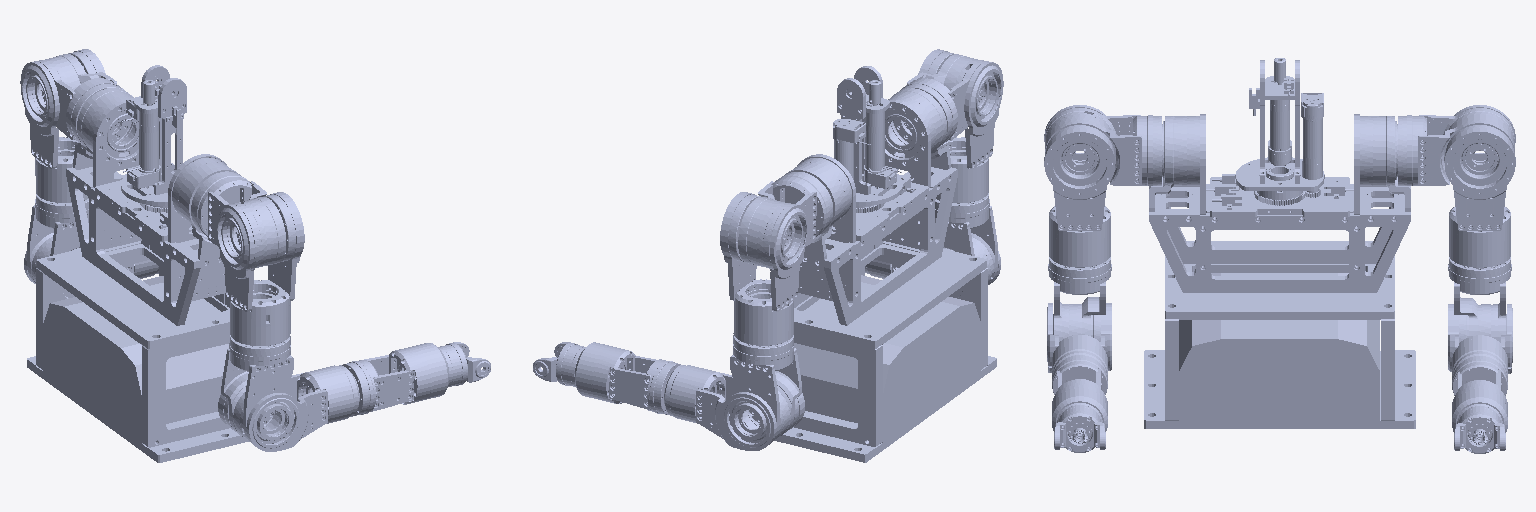
robot.urdf — TOMO:
<?xml version="1.0" encoding="utf-8"?>
<!-- This URDF was automatically created by SolidWorks to URDF Exporter! Originally created by [author] ([email redacted]) 
     Commit Version: 1.5.1-0-g916b5db  Build Version: 1.5.7152.31018
     For more information, please see http://wiki.ros.org/sw_urdf_exporter -->
<robot
  name="TOMO">
  <link
    name="base_link">
    <inertial>
      <origin
        xyz="4.93810241130204E-07 -0.000386316285931254 0.0968888666070041"
        rpy="0 0 0" />
      <mass
        value="8.83132447725134" />
      <inertia
        ixx="0.0575793448618033"
        ixy="-4.3156287973849E-08"
        ixz="1.01002746070377E-09"
        iyy="0.0423254144963157"
        iyz="-1.93199740717433E-09"
        izz="0.0808458288984447" />
    </inertial>
    <visual>
      <origin
        xyz="0 0 0"
        rpy="0 0 0" />
      <geometry>
        <mesh
          filename="package://TOMO/meshes/base_link.STL" />
      </geometry>
      <material
        name="">
        <color
          rgba="0.792156862745098 0.819607843137255 0.933333333333333 1" />
      </material>
    </visual>
    <collision>
      <origin
        xyz="0 0 0"
        rpy="0 0 0" />
      <geometry>
        <mesh
          filename="package://TOMO/meshes/base_link.STL" />
      </geometry>
    </collision>
  </link>
  <link
    name="link_1_right">
    <inertial>
      <origin
        xyz="-0.000116770951663181 0.00486515507498929 0.0746954589647087"
        rpy="0 0 0" />
      <mass
        value="0.227010110091438" />
      <inertia
        ixx="0.000243708178478457"
        ixy="-1.66021010705533E-07"
        ixz="5.95851806907483E-08"
        iyy="0.0003426243365169"
        iyz="-1.97302100623573E-05"
        izz="0.000198647270051706" />
    </inertial>
    <visual>
      <origin
        xyz="0 0 0"
        rpy="0 0 0" />
      <geometry>
        <mesh
          filename="package://TOMO/meshes/link_1_right.STL" />
      </geometry>
      <material
        name="">
        <color
          rgba="0.792156862745098 0.819607843137255 0.933333333333333 1" />
      </material>
    </visual>
    <collision>
      <origin
        xyz="0 0 0"
        rpy="0 0 0" />
      <geometry>
        <mesh
          filename="package://TOMO/meshes/link_1_right.STL" />
      </geometry>
    </collision>
  </link>
  <joint
    name="joint_1_right"
    type="revolute">
    <origin
      xyz="0 -0.149653699999999 0.346"
      rpy="1.5707963267949 -1.5707963267949 0" />
    <parent
      link="base_link" />
    <child
      link="link_1_right" />
    <axis
      xyz="0 0 -1" />
    <limit
      lower="-4"
      upper="4"
      effort="1"
      velocity="2" />
  </joint>
  <link
    name="link_2_right">
    <inertial>
      <origin
        xyz="0.0844457878809687 0.000101989286195203 -0.000711500079616463"
        rpy="0 0 0" />
      <mass
        value="0.224067099854849" />
      <inertia
        ixx="0.000204476910991099"
        ixy="-1.32452259272611E-07"
        ixz="-1.68210249018226E-06"
        iyy="0.000228971086287487"
        iyz="2.27423206555866E-07"
        izz="0.000287593417326689" />
    </inertial>
    <visual>
      <origin
        xyz="0 0 0"
        rpy="0 0 0" />
      <geometry>
        <mesh
          filename="package://TOMO/meshes/link_2_right.STL" />
      </geometry>
      <material
        name="">
        <color
          rgba="0.792156862745098 0.819607843137255 0.933333333333333 1" />
      </material>
    </visual>
    <collision>
      <origin
        xyz="0 0 0"
        rpy="0 0 0" />
      <geometry>
        <mesh
          filename="package://TOMO/meshes/link_2_right.STL" />
      </geometry>
    </collision>
  </link>
  <joint
    name="joint_2_right"
    type="revolute">
    <origin
      xyz="0 0 0.1083463"
      rpy="-1.5707963267949 0 -3.14159265358979" />
    <parent
      link="link_1_right" />
    <child
      link="link_2_right" />
    <axis
      xyz="0 0 -1" />
    <limit
      lower="-4"
      upper="4"
      effort="1"
      velocity="2" />
  </joint>
  <link
    name="link_3_right">
    <inertial>
      <origin
        xyz="-0.00454794287596466 -0.00163065568804118 0.229261609294948"
        rpy="0 0 0" />
      <mass
        value="0.213526726526992" />
      <inertia
        ixx="0.000295392285895187"
        ixy="2.55971824609778E-06"
        ixz="2.42012077099998E-05"
        iyy="0.000223789530418184"
        iyz="-7.92943480369413E-06"
        izz="0.000150527475277034" />
    </inertial>
    <visual>
      <origin
        xyz="0 0 0"
        rpy="0 0 0" />
      <geometry>
        <mesh
          filename="package://TOMO/meshes/link_3_right.STL" />
      </geometry>
      <material
        name="">
        <color
          rgba="0.792156862745098 0.819607843137255 0.933333333333333 1" />
      </material>
    </visual>
    <collision>
      <origin
        xyz="0 0 0"
        rpy="0 0 0" />
      <geometry>
        <mesh
          filename="package://TOMO/meshes/link_3_right.STL" />
      </geometry>
    </collision>
  </link>
  <joint
    name="joint_3_right"
    type="revolute">
    <origin
      xyz="0 0 0"
      rpy="1.5707963267949 0 1.5707963267949" />
    <parent
      link="link_2_right" />
    <child
      link="link_3_right" />
    <axis
      xyz="0 0 -1" />
    <limit
      lower="-4"
      upper="4"
      effort="1"
      velocity="2" />
  </joint>
  <link
    name="link_4_right">
    <inertial>
      <origin
        xyz="0.0706705020224996 -0.0019474253479012 -0.000388890377786499"
        rpy="0 0 0" />
      <mass
        value="0.157682494190408" />
      <inertia
        ixx="0.000121793428908691"
        ixy="2.300132575207E-06"
        ixz="1.68248584566472E-07"
        iyy="0.00012579488389509"
        iyz="3.33924248156573E-07"
        izz="0.000163908797308814" />
    </inertial>
    <visual>
      <origin
        xyz="0 0 0"
        rpy="0 0 0" />
      <geometry>
        <mesh
          filename="package://TOMO/meshes/link_4_right.STL" />
      </geometry>
      <material
        name="">
        <color
          rgba="0.792156862745098 0.819607843137255 0.933333333333333 1" />
      </material>
    </visual>
    <collision>
      <origin
        xyz="0 0 0"
        rpy="0 0 0" />
      <geometry>
        <mesh
          filename="package://TOMO/meshes/link_4_right.STL" />
      </geometry>
    </collision>
  </link>
  <joint
    name="joint_4_right"
    type="revolute">
    <origin
      xyz="0 0 0.261999881246334"
      rpy="-1.5707963267949 0 1.5707963267949" />
    <parent
      link="link_3_right" />
    <child
      link="link_4_right" />
    <axis
      xyz="0 0 1" />
    <limit
      lower="-4"
      upper="4"
      effort="1"
      velocity="2" />
  </joint>
  <link
    name="link_5_right">
    <inertial>
      <origin
        xyz="2.62862985959955E-06 -3.99825925093689E-05 0.231159620523696"
        rpy="0 0 0" />
      <mass
        value="0.177297059983289" />
      <inertia
        ixx="7.14269543821157E-05"
        ixy="-4.39097107681586E-07"
        ixz="3.91916444752041E-10"
        iyy="8.25865352501055E-05"
        iyz="-2.34279475662905E-09"
        izz="0.000123287285497174" />
    </inertial>
    <visual>
      <origin
        xyz="0 0 0"
        rpy="0 0 0" />
      <geometry>
        <mesh
          filename="package://TOMO/meshes/link_5_right.STL" />
      </geometry>
      <material
        name="">
        <color
          rgba="0.792156862745098 0.819607843137255 0.933333333333333 1" />
      </material>
    </visual>
    <collision>
      <origin
        xyz="0 0 0"
        rpy="0 0 0" />
      <geometry>
        <mesh
          filename="package://TOMO/meshes/link_5_right.STL" />
      </geometry>
    </collision>
  </link>
  <joint
    name="joint_5_right"
    type="revolute">
    <origin
      xyz="0 0 0"
      rpy="1.5707963267949 0 1.5707963267949" />
    <parent
      link="link_4_right" />
    <child
      link="link_5_right" />
    <axis
      xyz="0 0 -1" />
    <limit
      lower="-4"
      upper="4"
      effort="1"
      velocity="2" />
  </joint>
  <link
    name="hand_link">
    <inertial>
      <origin
        xyz="0.0174953909223021 -0.0683958688531121 0.00621333236576688"
        rpy="0 0 0" />
      <mass
        value="0.18641615441014" />
      <inertia
        ixx="7.23597280607215E-05"
        ixy="6.00403205960874E-06"
        ixz="-9.48627696336613E-07"
        iyy="4.50161547663777E-05"
        iyz="3.21609803728982E-06"
        izz="5.07318546078991E-05" />
    </inertial>
    <visual>
      <origin
        xyz="0 0 0"
        rpy="0 0 0" />
      <geometry>
        <mesh
          filename="package://TOMO/meshes/hand_link.STL" />
      </geometry>
      <material
        name="">
        <color
          rgba="0.792156862745098 0.819607843137255 0.933333333333333 1" />
      </material>
    </visual>
    <collision>
      <origin
        xyz="0 0 0"
        rpy="0 0 0" />
      <geometry>
        <mesh
          filename="package://TOMO/meshes/hand_link.STL" />
      </geometry>
    </collision>
  </link>
  <joint
    name="hand_joint"
    type="revolute">
    <origin
      xyz="0 0 0.321499459120271"
      rpy="-1.5707963267949 0 -0.043686044650857" />
    <parent
      link="link_5_right" />
    <child
      link="hand_link" />
    <axis
      xyz="0 0 -1" />
    <limit
      lower="-4"
      upper="4"
      effort="1"
      velocity="2" />
  </joint>
  <link
    name="link_1_left">
    <inertial>
      <origin
        xyz="8.45351276024253E-05 0.0048647232175995 -0.0803491589659199"
        rpy="0 0 0" />
      <mass
        value="0.227010110098544" />
      <inertia
        ixx="0.000243710145508596"
        ixy="-4.71305710534827E-07"
        ixz="-6.75041651725624E-08"
        iyy="0.000342622369510464"
        iyz="1.97301940833334E-05"
        izz="0.000198647270077769" />
    </inertial>
    <visual>
      <origin
        xyz="0 0 0"
        rpy="0 0 0" />
      <geometry>
        <mesh
          filename="package://TOMO/meshes/link_1_left.STL" />
      </geometry>
      <material
        name="">
        <color
          rgba="0.792156862745098 0.819607843137255 0.933333333333333 1" />
      </material>
    </visual>
    <collision>
      <origin
        xyz="0 0 0"
        rpy="0 0 0" />
      <geometry>
        <mesh
          filename="package://TOMO/meshes/link_1_left.STL" />
      </geometry>
    </collision>
  </link>
  <joint
    name="joint_1_left"
    type="revolute">
    <origin
      xyz="0 0.144 0.345999091588534"
      rpy="1.5707963267949 -1.5707963267949 0" />
    <parent
      link="base_link" />
    <child
      link="link_1_left" />
    <axis
      xyz="0 0 1" />
    <limit
      lower="-0.52359"
      upper="3.14159"
      effort="1"
      velocity="2" />
  </joint>
  <link
    name="link_2_left">
    <inertial>
      <origin
        xyz="-0.0844487310925175 -0.000583153665721165 -0.000102195025952934"
        rpy="0 0 0" />
      <mass
        value="0.2240670998602" />
      <inertia
        ixx="0.000204502036886142"
        ixy="-2.21747921509167E-06"
        ixz="-1.33914831822612E-07"
        iyy="0.000287568291467972"
        iyz="2.26565105604647E-07"
        izz="0.000228971086335725" />
    </inertial>
    <visual>
      <origin
        xyz="0 0 0"
        rpy="0 0 0" />
      <geometry>
        <mesh
          filename="package://TOMO/meshes/link_2_left.STL" />
      </geometry>
      <material
        name="">
        <color
          rgba="0.792156862745098 0.819607843137255 0.933333333333333 1" />
      </material>
    </visual>
    <collision>
      <origin
        xyz="0 0 0"
        rpy="0 0 0" />
      <geometry>
        <mesh
          filename="package://TOMO/meshes/link_2_left.STL" />
      </geometry>
    </collision>
  </link>
  <joint
    name="joint_2_left"
    type="revolute">
    <origin
      xyz="0 0.000749459120259094 -0.113999794314368"
      rpy="0 0 0" />
    <parent
      link="link_1_left" />
    <child
      link="link_2_left" />
    <axis
      xyz="0 1 0" />
    <limit
      lower="-2.356"
      upper="0.17453"
      effort="1"
      velocity="2" />
  </joint>
  <link
    name="link_3_left">
    <inertial>
      <origin
        xyz="-0.0858747139912413 0.000346559404267246 -0.00456622316326594"
        rpy="0 0 0" />
      <mass
        value="0.214220241880664" />
      <inertia
        ixx="0.000150932655208321"
        ixy="-7.41015090690671E-06"
        ixz="-2.42263907828336E-05"
        iyy="0.000224369684082305"
        iyz="-3.00990463128839E-06"
        izz="0.000296253065633001" />
    </inertial>
    <visual>
      <origin
        xyz="0 0 0"
        rpy="0 0 0" />
      <geometry>
        <mesh
          filename="package://TOMO/meshes/link_3_left.STL" />
      </geometry>
      <material
        name="">
        <color
          rgba="0.792156862745098 0.819607843137255 0.933333333333333 1" />
      </material>
    </visual>
    <collision>
      <origin
        xyz="0 0 0"
        rpy="0 0 0" />
      <geometry>
        <mesh
          filename="package://TOMO/meshes/link_3_left.STL" />
      </geometry>
    </collision>
  </link>
  <joint
    name="joint_3_left"
    type="revolute">
    <origin
      xyz="-0.1435 -0.000749459120259094 0"
      rpy="0 0 0" />
    <parent
      link="link_2_left" />
    <child
      link="link_3_left" />
    <axis
      xyz="1 0 0" />
    <limit
      lower="-2.3561"
      upper="1.570796"
      effort="1"
      velocity="2" />
  </joint>
  <link
    name="link_4_left">
    <inertial>
      <origin
        xyz="-0.0020989685505893 -0.072355178820498 0.00123007865120434"
        rpy="0 0 0" />
      <mass
        value="0.157682496301183" />
      <inertia
        ixx="0.000125784644913681"
        ixy="-2.30899906835262E-06"
        ixz="1.01217898371279E-07"
        iyy="0.000121803669564616"
        iyz="2.65086915647767E-07"
        izz="0.000163908798753155" />
    </inertial>
    <visual>
      <origin
        xyz="0 0 0"
        rpy="0 0 0" />
      <geometry>
        <mesh
          filename="package://TOMO/meshes/link_4_left.STL" />
      </geometry>
      <material
        name="">
        <color
          rgba="0.792156862745098 0.819607843137255 0.933333333333333 1" />
      </material>
    </visual>
    <collision>
      <origin
        xyz="0 0 0"
        rpy="0 0 0" />
      <geometry>
        <mesh
          filename="package://TOMO/meshes/link_4_left.STL" />
      </geometry>
    </collision>
  </link>
  <joint
    name="joint_4_left"
    type="revolute">
    <origin
      xyz="-0.1185 0 -0.00075"
      rpy="0 0 0" />
    <parent
      link="link_3_left" />
    <child
      link="link_4_left" />
    <axis
      xyz="0 0 1" />
    <limit
      lower="-1.570796"
      upper="0.523598"
      effort="1"
      velocity="2" />
  </joint>
  <link
    name="link_5_left">
    <inertial>
      <origin
        xyz="-0.000505431992630381 -0.104347692805929 -3.99826105053624E-05"
        rpy="0 0 0" />
      <mass
        value="0.177297060052954" />
      <inertia
        ixx="7.14272085329521E-05"
        ixy="1.14811065060073E-07"
        ixz="-4.39090819540098E-07"
        iyy="0.000123287031335847"
        iyz="3.3181880174241E-09"
        izz="8.25865352634625E-05" />
    </inertial>
    <visual>
      <origin
        xyz="0 0 0"
        rpy="0 0 0" />
      <geometry>
        <mesh
          filename="package://TOMO/meshes/link_5_left.STL" />
      </geometry>
      <material
        name="">
        <color
          rgba="0.792156862745098 0.819607843137255 0.933333333333333 1" />
      </material>
    </visual>
    <collision>
      <origin
        xyz="0 0 0"
        rpy="0 0 0" />
      <geometry>
        <mesh
          filename="package://TOMO/meshes/link_5_left.STL" />
      </geometry>
    </collision>
  </link>
  <joint
    name="joint_5_left"
    type="revolute">
    <origin
      xyz="0 -0.1285 0.00075"
      rpy="0 0 0" />
    <parent
      link="link_4_left" />
    <child
      link="link_5_left" />
    <axis
      xyz="0 1 0" />
    <limit
      lower="-3.1415"
      upper="0.3490"
      effort="1"
      velocity="2" />
  </joint>
  <link
    name="link_6_left">
    <inertial>
      <origin
        xyz="0.00514864984860652 -0.0185295130046993 -0.0751071001757195"
        rpy="0 0 0" />
      <mass
        value="0.19393437562808" />
      <inertia
        ixx="5.11621112333787E-05"
        ixy="4.23475259763481E-06"
        ixz="3.12997240347666E-06"
        iyy="7.52336491238202E-05"
        iyz="-6.32262460252191E-06"
        izz="4.67258124335878E-05" />
    </inertial>
    <visual>
      <origin
        xyz="0 0 0"
        rpy="0 0 0" />
      <geometry>
        <mesh
          filename="package://TOMO/meshes/link_6_left.STL" />
      </geometry>
      <material
        name="">
        <color
          rgba="0.792156862745098 0.819607843137255 0.933333333333333 1" />
      </material>
    </visual>
    <collision>
      <origin
        xyz="0 0 0"
        rpy="0 0 0" />
      <geometry>
        <mesh
          filename="package://TOMO/meshes/link_6_left.STL" />
      </geometry>
    </collision>
  </link>
  <joint
    name="joint_6_left"
    type="revolute">
    <origin
      xyz="0 -0.193 0"
      rpy="1.5708 1.5271 3.1416" />
    <parent
      link="link_5_left" />
    <child
      link="link_6_left" />
    <axis
      xyz="1 0 0" />
    <limit
      lower="-1.570"
      upper="1.570"
      effort="1"
      velocity="2" />
  </joint>
  <link
    name="link_1_head">
    <inertial>
      <origin
        xyz="-0.0078250603517496 0.0883251418406869 0.00715500001582559"
        rpy="0 0 0" />
      <mass
        value="0.234633125007902" />
      <inertia
        ixx="0.000214177105962251"
        ixy="-8.53524194649373E-08"
        ixz="4.03989529773258E-07"
        iyy="9.8110545939101E-05"
        iyz="3.91860723006609E-10"
        izz="0.000217397035377449" />
    </inertial>
    <visual>
      <origin
        xyz="0 0 0"
        rpy="0 0 0" />
      <geometry>
        <mesh
          filename="package://TOMO/meshes/link_1_head.STL" />
      </geometry>
      <material
        name="">
        <color
          rgba="0.792156862745098 0.819607843137255 0.933333333333333 1" />
      </material>
    </visual>
    <collision>
      <origin
        xyz="0 0 0"
        rpy="0 0 0" />
      <geometry>
        <mesh
          filename="package://TOMO/meshes/link_1_head.STL" />
      </geometry>
    </collision>
  </link>
  <joint
    name="joint_1_head"
    type="revolute">
    <origin
      xyz="0.00250000000000015 0 0.277"
      rpy="1.5707963267949 0 -1.55885197038868" />
    <parent
      link="base_link" />
    <child
      link="link_1_head" />
    <axis
      xyz="0 1 0" />
    <limit
      lower="-2"
      upper="2"
      effort="1"
      velocity="2" />
  </joint>
  <link
    name="link_2_head">
    <inertial>
      <origin
        xyz="0.00112128231360629 0.0545589765783932 -0.0307364618254799"
        rpy="0 0 0" />
      <mass
        value="0.128835892667459" />
      <inertia
        ixx="6.27926703017431E-05"
        ixy="3.16907598645175E-08"
        ixz="-3.14948652026588E-07"
        iyy="0.000119972521607673"
        iyz="-2.41068422069961E-06"
        izz="8.54038299007762E-05" />
    </inertial>
    <visual>
      <origin
        xyz="0 0 0"
        rpy="0 0 0" />
      <geometry>
        <mesh
          filename="package://TOMO/meshes/link_2_head.STL" />
      </geometry>
      <material
        name="">
        <color
          rgba="0.792156862745098 0.819607843137255 0.933333333333333 1" />
      </material>
    </visual>
    <collision>
      <origin
        xyz="0 0 0"
        rpy="0 0 0" />
      <geometry>
        <mesh
          filename="package://TOMO/meshes/link_2_head.STL" />
      </geometry>
    </collision>
  </link>
  <joint
    name="joint_2_head"
    type="revolute">
    <origin
      xyz="0 0.177 0"
      rpy="0.0693479584506404 -2.87108990057302E-05 0.000827692432825673" />
    <parent
      link="link_1_head" />
    <child
      link="link_2_head" />
    <axis
      xyz="0.999928667023102 0 0.0119440723960343" />
    <limit
      lower="-4"
      upper="4"
      effort="1"
      velocity="2" />
  </joint>
</robot>

--- Facts derived from the render (not from the file) ---
Views: 3 orthographic renders of the robot side by side, from view 1: azimuth 30°, elevation 25°; view 2: azimuth 150°, elevation 25°; view 3: azimuth 270°, elevation 25°.
Robot: TOMO — 15 links, 14 joints (14 revolute); root link base_link; default pose: all joints at 0.
Visible links, largest first — view 1: base_link, link_2_right, link_5_right, link_1_head, link_3_right, link_1_right, link_4_right, link_2_left, link_1_left, link_3_left, link_4_left; view 2: base_link, link_2_left, link_1_head, link_5_left, link_3_left, link_1_left, link_4_left, link_2_right, link_1_right, link_3_right, link_4_right; view 3: base_link, link_2_left, link_2_right, link_1_head, link_5_left, link_5_right, link_1_right, link_1_left, link_3_right, link_3_left, link_4_left, link_4_right.
Link boxes in pixels (<box>): base_link: <box>27,88,254,462</box>; link_2_right: <box>216,192,304,345</box>; link_5_right: <box>342,342,490,415</box>; link_1_head: <box>121,65,186,205</box>; link_3_right: <box>221,335,294,443</box>; link_1_right: <box>191,171,285,269</box>; link_4_right: <box>218,365,359,451</box>; link_2_left: <box>20,49,105,202</box>; link_1_left: <box>26,54,124,144</box>; link_3_left: <box>27,194,88,283</box>; link_4_left: <box>24,248,158,299</box>; base_link: <box>770,88,996,462</box>; link_2_left: <box>720,192,808,345</box>; link_1_head: <box>833,66,902,205</box>; link_5_left: <box>533,342,680,414</box>; link_3_left: <box>729,335,801,443</box>; link_1_left: <box>738,172,832,269</box>; link_4_left: <box>664,365,804,450</box>; link_2_right: <box>918,49,1003,203</box>; link_1_right: <box>900,54,997,144</box>; link_3_right: <box>935,193,997,284</box>; link_4_right: <box>865,248,1000,299</box>; base_link: <box>1144,114,1415,428</box>; link_2_left: <box>1444,105,1515,267</box>; link_2_right: <box>1044,105,1115,267</box>; link_1_head: <box>1231,58,1324,197</box>; link_5_left: <box>1452,356,1507,453</box>; link_5_right: <box>1052,355,1107,452</box>; link_1_right: <box>1045,108,1162,185</box>; link_1_left: <box>1397,108,1514,185</box>; link_3_right: <box>1048,257,1111,341</box>; link_3_left: <box>1448,257,1511,342</box>; link_4_left: <box>1448,304,1512,379</box>; link_4_right: <box>1047,303,1111,378</box>.
Size in the robot's own frame: 0.4437 by 0.6076 by 0.4738 metres.
Meshes: 15 distinct files referenced, 12 mesh visuals loaded (12 binary STL); not drawn: 3 (reference not matched to a file when rendering).